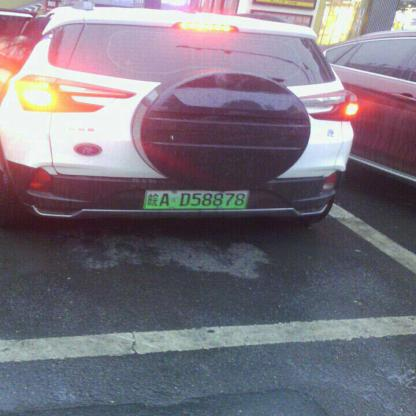lp: (145, 190, 248, 208)
